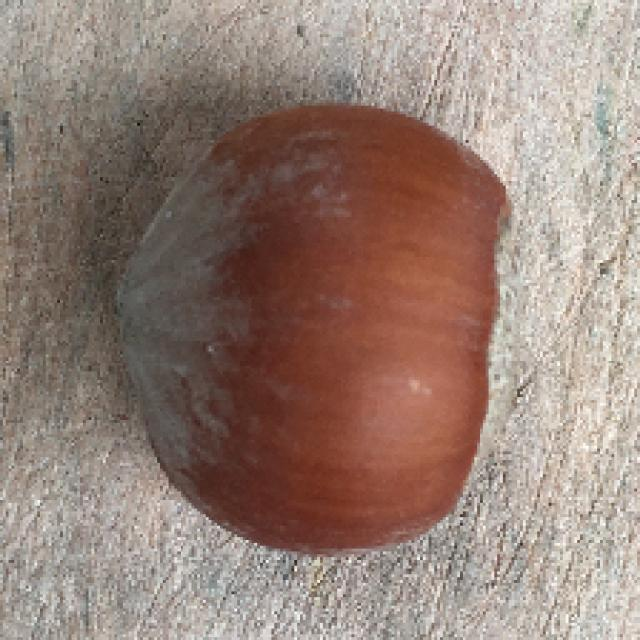hazelnut: (102, 99, 548, 552)
